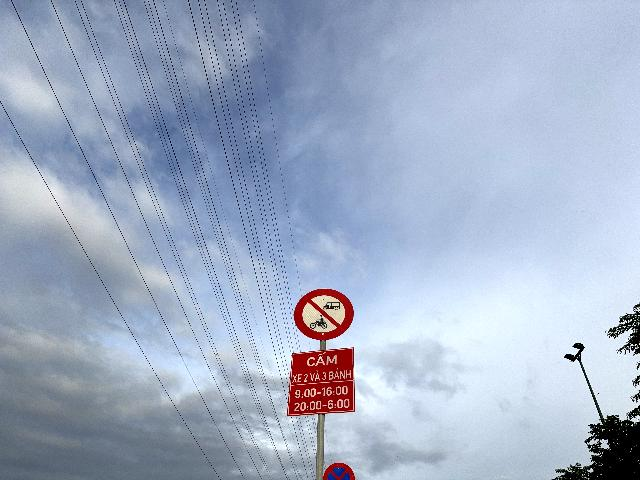cam-xe-2-banh-3-banh: (293, 287, 354, 341)
